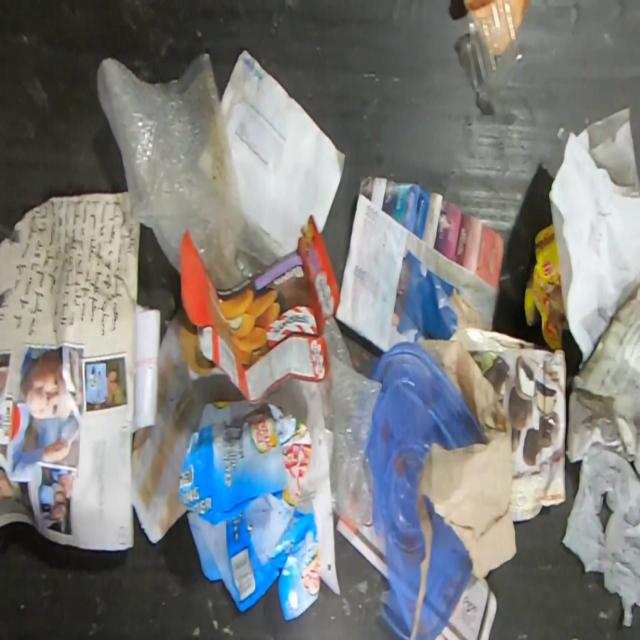cardboard: (175, 209, 340, 403), (176, 401, 321, 621), (334, 177, 504, 349), (448, 325, 566, 522)
rigid_plastic: (364, 342, 491, 639), (464, 0, 524, 112)
soft_plastic: (96, 53, 296, 295), (322, 317, 378, 527)
